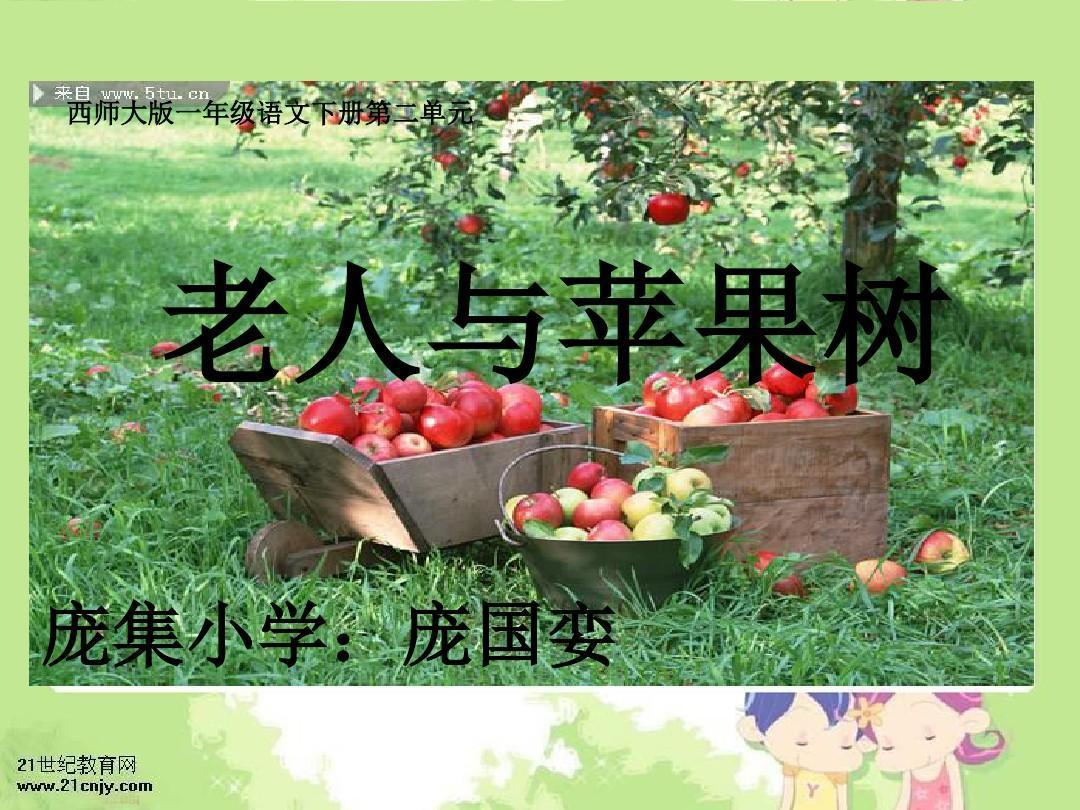apple: (301, 395, 359, 444), (495, 383, 542, 435), (452, 390, 499, 436), (853, 556, 906, 594), (512, 490, 563, 527), (358, 401, 402, 438), (420, 408, 465, 444), (619, 490, 660, 528), (657, 384, 703, 417), (772, 362, 811, 398), (649, 194, 690, 225), (575, 499, 621, 526), (568, 462, 606, 490), (391, 383, 426, 413), (591, 477, 633, 501)
